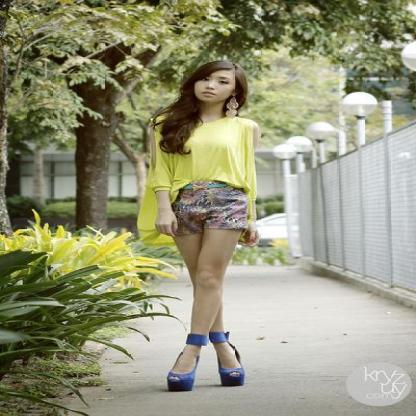shirt: (135, 117, 258, 246)
shoe: (162, 330, 244, 391)
skirt: (172, 180, 258, 235)
